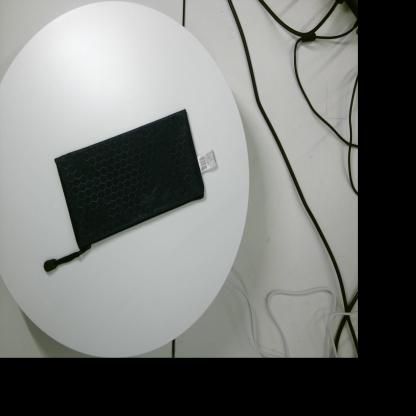Stationery: (43, 109, 216, 272)
